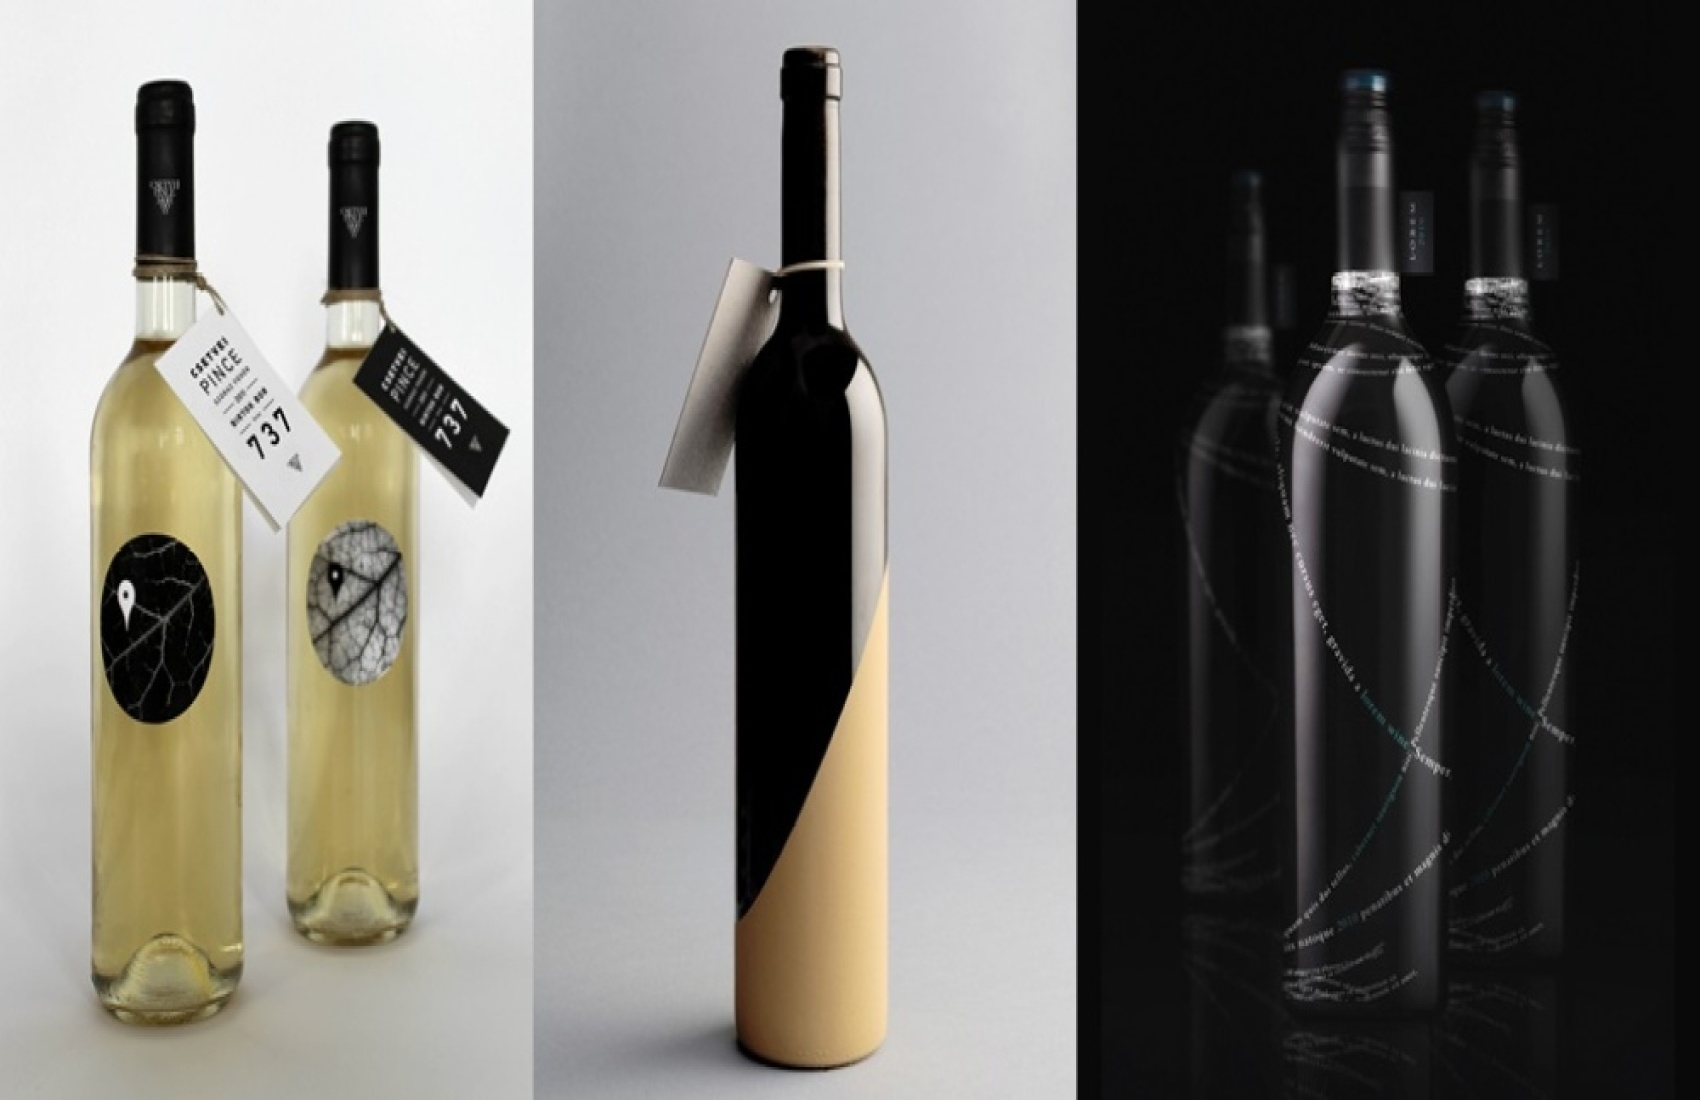wine: (734, 25, 905, 1038), (1287, 1, 1458, 1012), (90, 83, 244, 1012), (280, 114, 406, 941)
